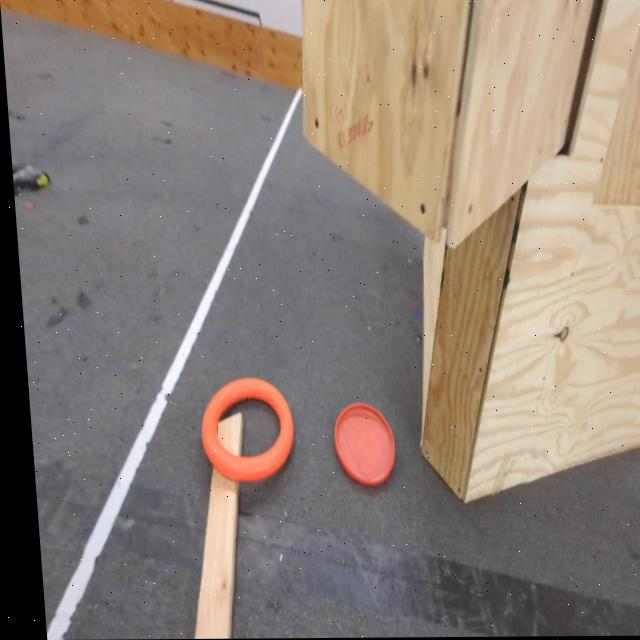note: (191, 379, 290, 480)
